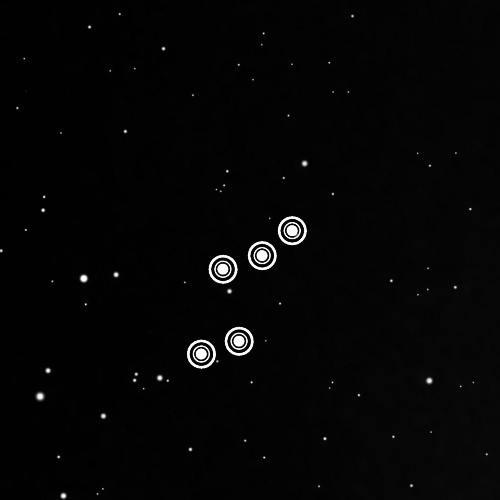lyra: (170, 203, 316, 389)
